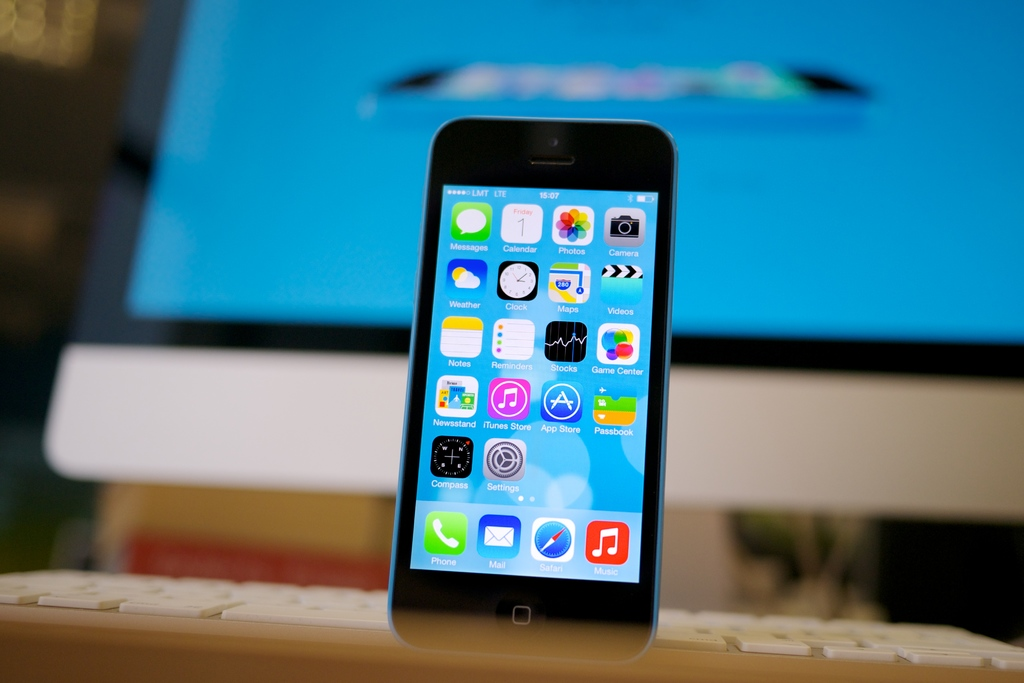mobile phone: (400, 106, 680, 663)
